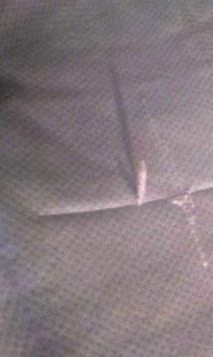snag: (115, 146, 168, 216)
